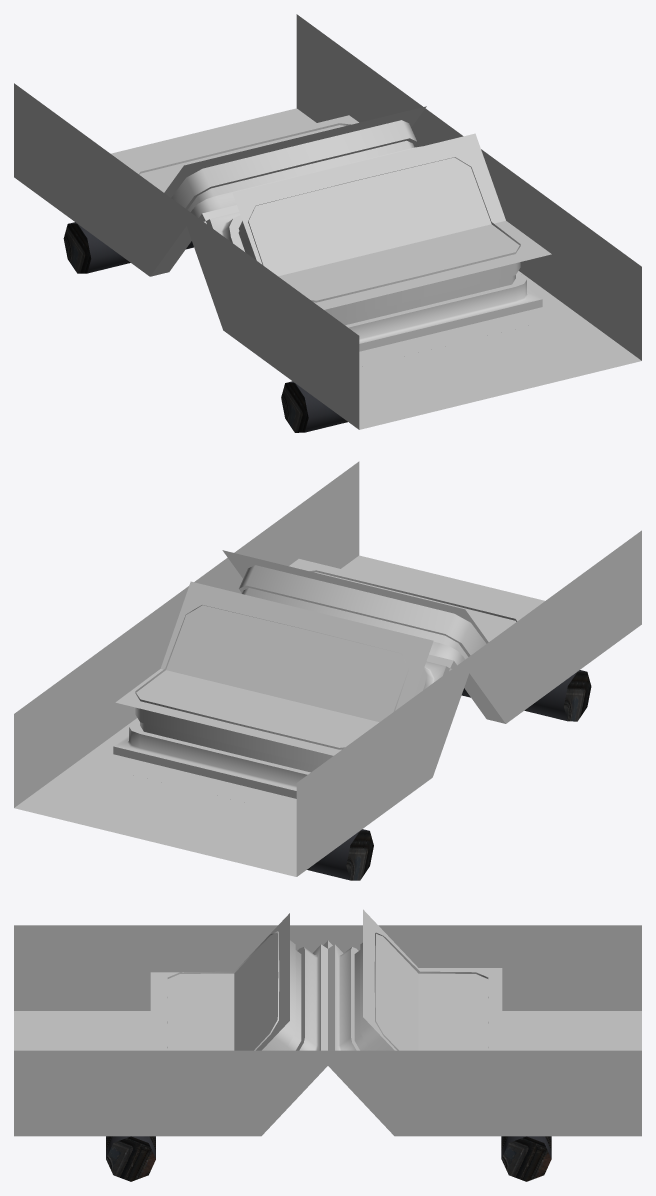
File: Prop_Subflor_ceiling_02.fbx
The picture shows the model from 3 angles, top to bottom: view 1: azimuth 30°, elevation 25°; view 2: azimuth 150°, elevation 25°; view 3: azimuth 270°, elevation 25°; orthographic projection. The views are drawn at different scales.
Parts seen in each view (by area): view 1: Prop_Subflor_ceiling_02; view 2: Prop_Subflor_ceiling_02; view 3: Prop_Subflor_ceiling_02.
Part boxes in pixels (x1,y1,x2,y2): Prop_Subflor_ceiling_02: [14, 14, 641, 432]; Prop_Subflor_ceiling_02: [14, 461, 641, 880]; Prop_Subflor_ceiling_02: [14, 909, 641, 1181].
Bounding box in the file's own units: 2837 × 1631 × 6000.
